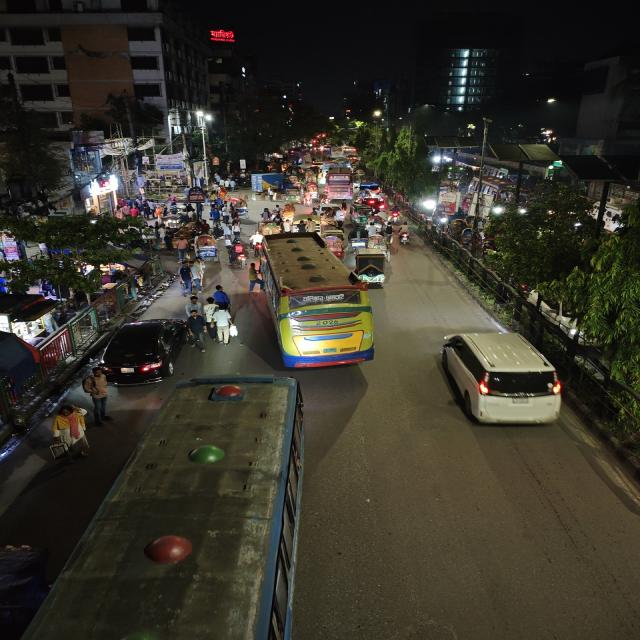bus: (79, 375, 317, 640), (248, 231, 379, 375), (322, 167, 355, 199)
car: (427, 327, 569, 436), (94, 315, 190, 385), (359, 182, 382, 198)
cng: (352, 205, 371, 224)
motorcycle: (224, 238, 248, 268), (396, 222, 414, 246), (386, 206, 403, 224)
pedestrian: (46, 403, 92, 462), (80, 366, 116, 424), (209, 304, 236, 346), (185, 310, 208, 350), (174, 261, 198, 297), (170, 233, 194, 262), (202, 296, 218, 322), (192, 258, 208, 284)
rickshaw: (353, 250, 394, 289), (320, 227, 349, 255), (194, 234, 220, 261), (316, 205, 341, 228), (229, 199, 250, 218), (279, 204, 296, 218)
truck: (324, 168, 355, 200), (250, 170, 283, 193)
